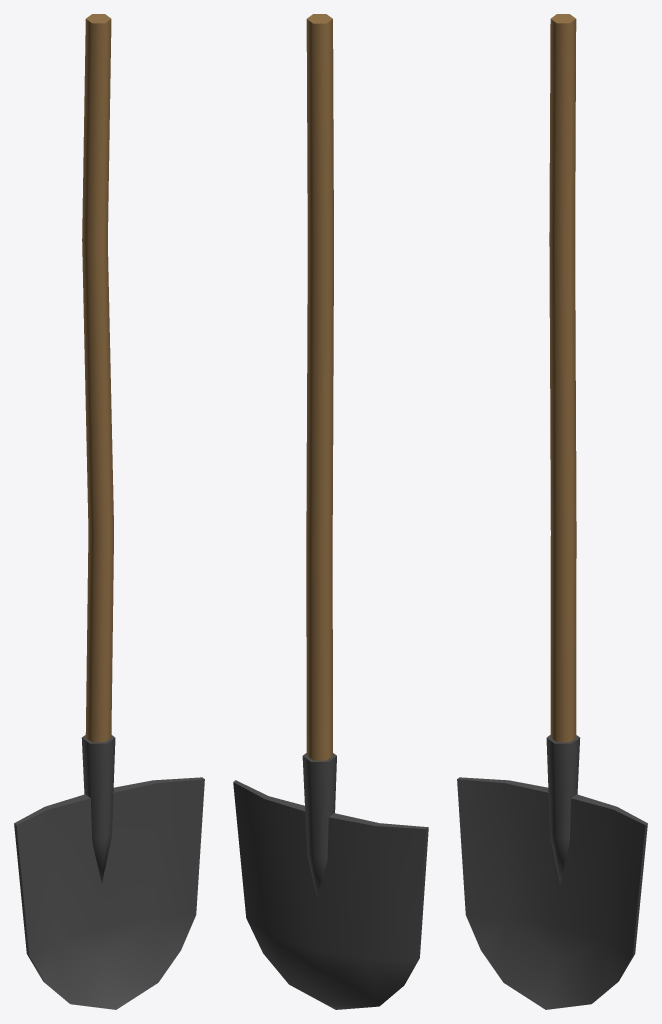
3 renders of one model, left to right at view 1: azimuth 30°, elevation 25°; view 2: azimuth 150°, elevation 25°; view 3: azimuth 330°, elevation 25°, orthographic. The views are drawn at different scales.
Parts seen in each view (by area): view 1: Shovel_001; view 2: Shovel_001; view 3: Shovel_001.
Part boxes in pixels (x1=…): Shovel_001: x1=14, y1=14, x2=204, y2=1009; Shovel_001: x1=233, y1=14, x2=428, y2=1009; Shovel_001: x1=457, y1=14, x2=647, y2=1009.
Size of the model in its own units: 309 by 1532 by 73.69.
